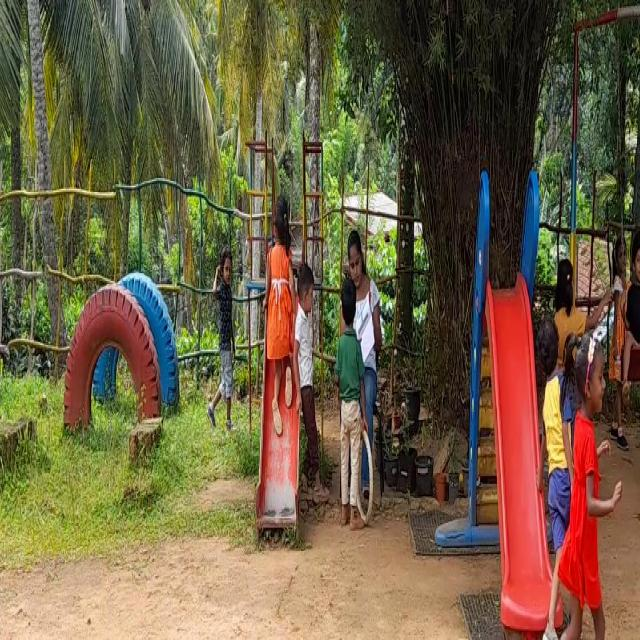child: (558, 334, 618, 640), (293, 259, 321, 521), (207, 234, 241, 425), (263, 214, 292, 420), (625, 218, 640, 404)
